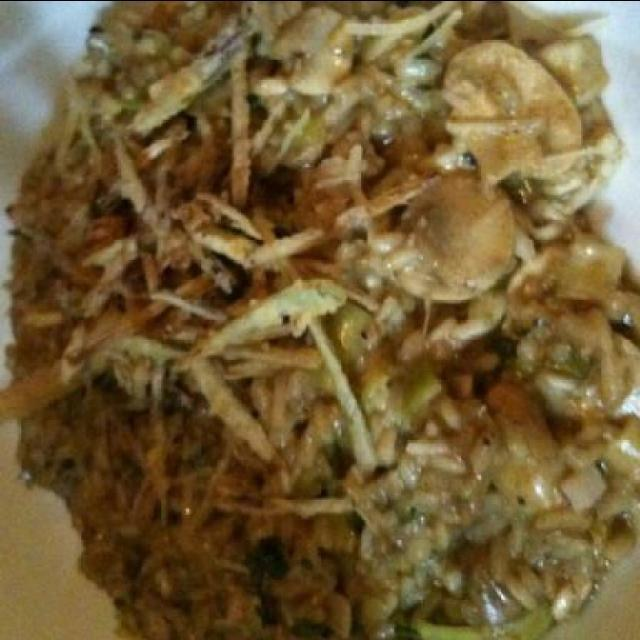Risotto: (18, 13, 634, 630)
